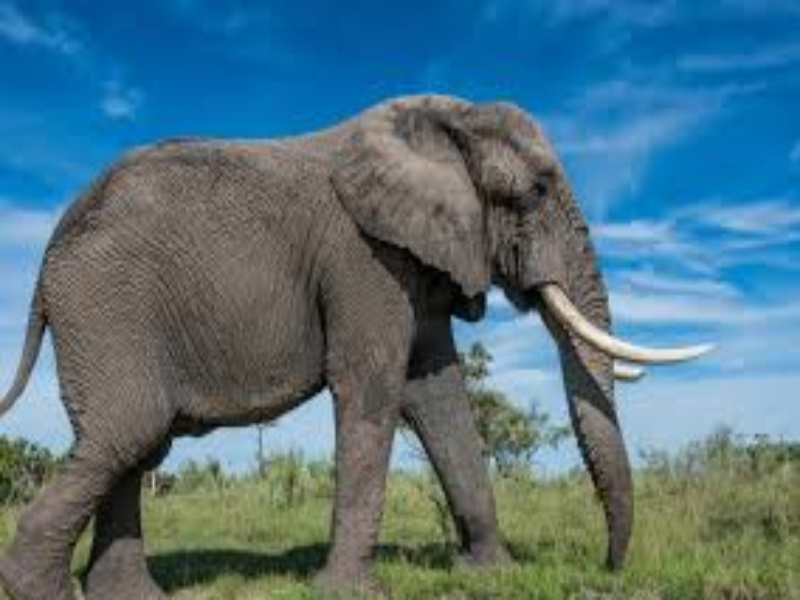elephant: (10, 89, 718, 591)
